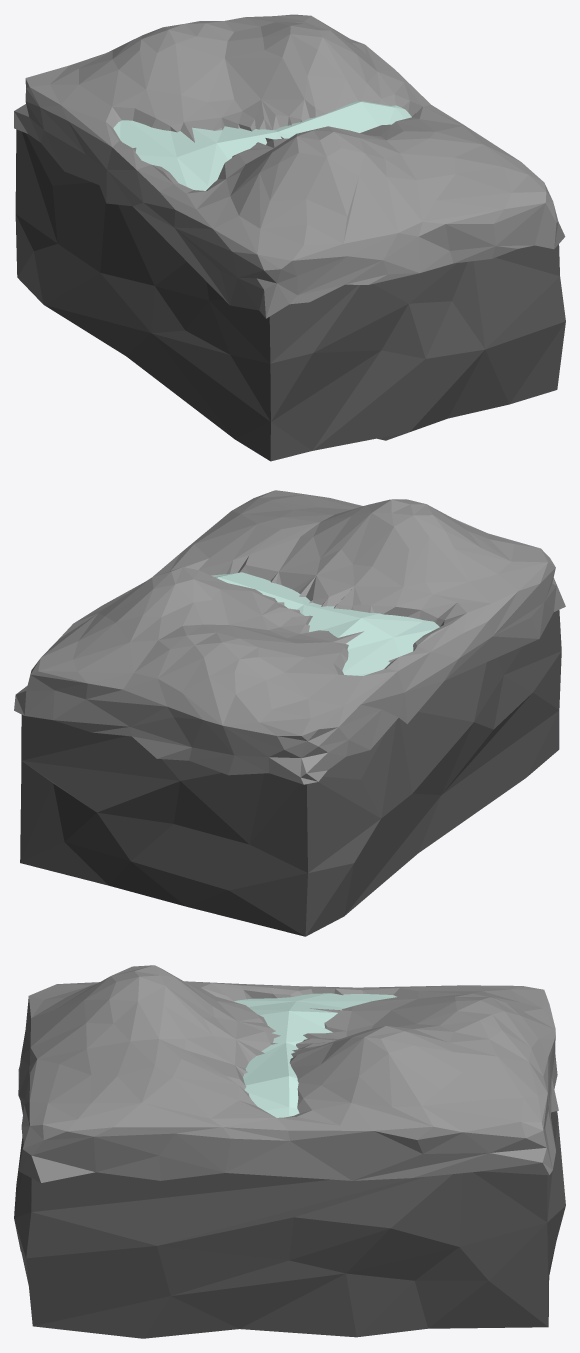
Rendered from stone_island.fbx.
3 renders of one model, top to bottom at view 1: azimuth 30°, elevation 25°; view 2: azimuth 150°, elevation 25°; view 3: azimuth 270°, elevation 25°, orthographic. The views are drawn at different scales.
Parts seen in each view (by area): view 1: grass, dirt, water; view 2: grass, dirt, water; view 3: grass, dirt, water.
Part boxes in pixels (bbox=[...]): grass: bbox=[14, 14, 565, 318]; dirt: bbox=[15, 129, 565, 461]; water: bbox=[113, 101, 411, 190]; grass: bbox=[14, 490, 565, 784]; dirt: bbox=[20, 610, 561, 936]; water: bbox=[211, 572, 439, 675]; grass: bbox=[18, 965, 558, 1182]; dirt: bbox=[14, 1102, 565, 1338]; water: bbox=[234, 993, 396, 1117].
Bounding box in the file's own units: 896 × 800 × 1309.
